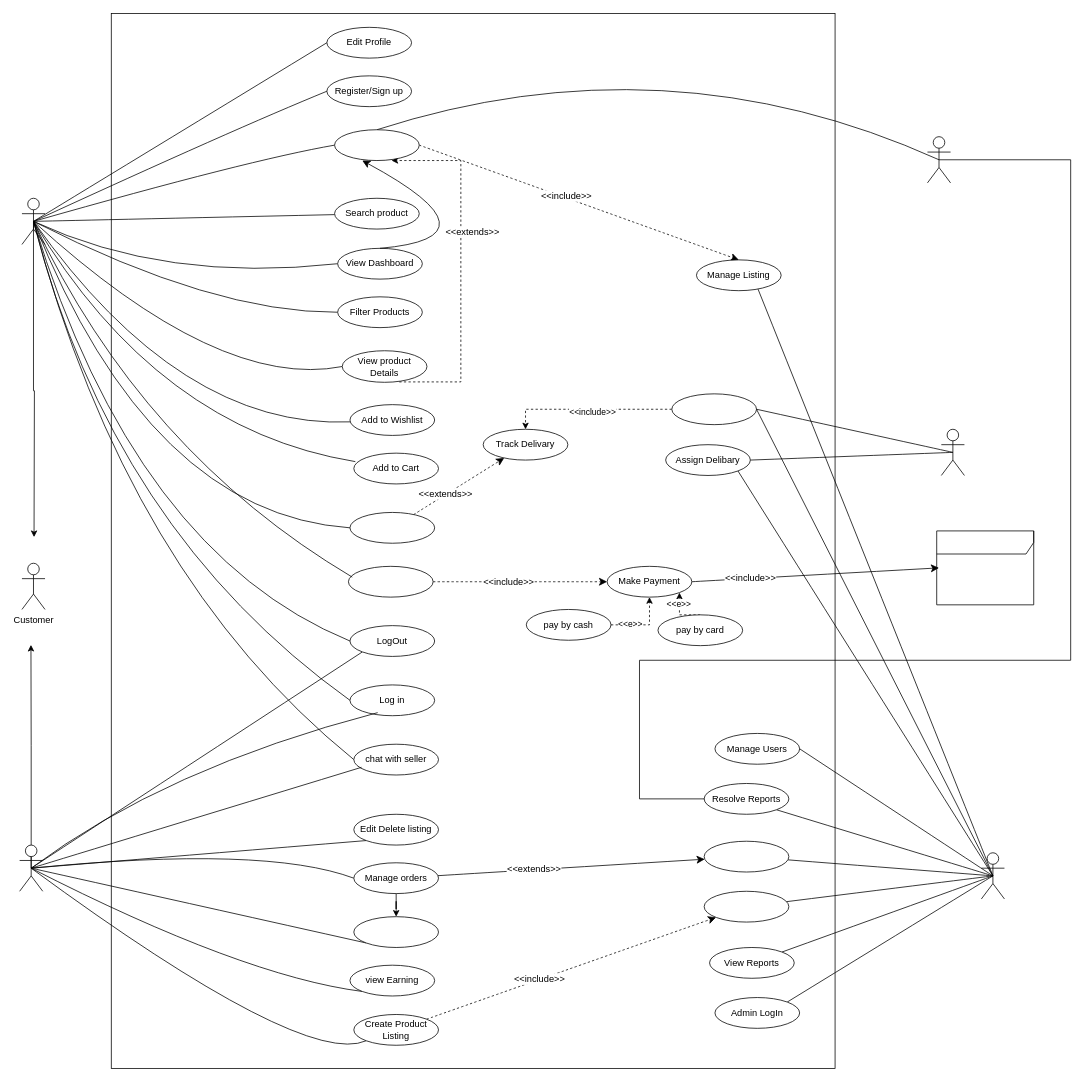
Image size: 1090x1082. Some labels were removed from this diagram. Each missing label, with the centre of its shape:
"Admin" belongs at (x=992, y=875).
"Agent" belongs at (x=939, y=159).
"Buyer" belongs at (x=33, y=221).
"Delivary Team" belongs at (x=952, y=452).
"handle disputes" belongs at (x=746, y=856).
"Place Order" belongs at (x=390, y=581).
"Register as Seller" belongs at (x=396, y=931).
"Report Product" belongs at (x=376, y=145).
"Seller" belongs at (x=31, y=867).
"System" belongs at (x=985, y=567).
"Update delivary status" belongs at (x=714, y=409).
"Verify Seller" belongs at (x=746, y=906).
"View order Status" belongs at (x=392, y=527).
